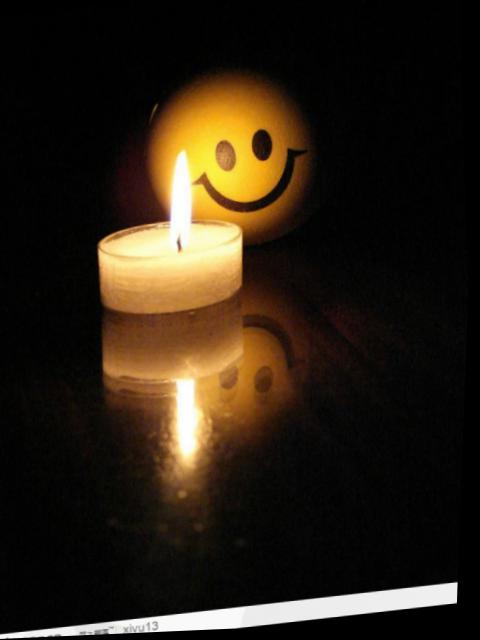fire: (174, 378, 208, 469), (163, 151, 196, 241)
